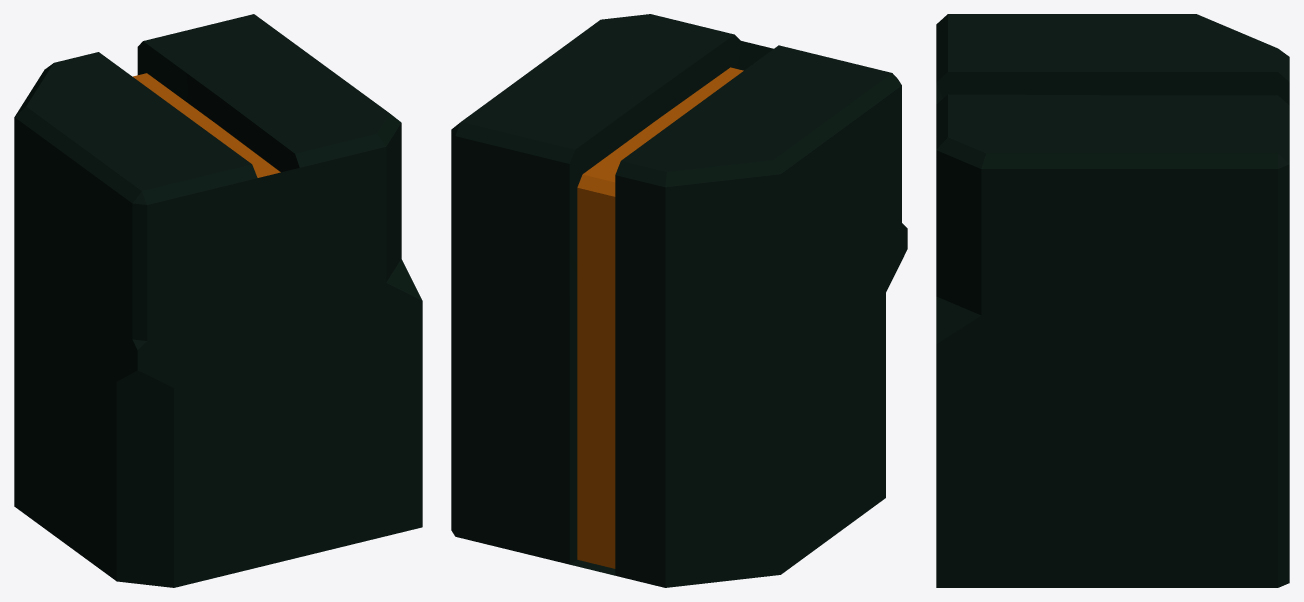
The model's file is Lava_platform.fbx.
3 renders of one model, left to right at view 1: azimuth 30°, elevation 25°; view 2: azimuth 150°, elevation 25°; view 3: azimuth 270°, elevation 25°, orthographic. The views are drawn at different scales.
Visible parts, largest first — view 1: MESH_lava_platform; view 2: MESH_lava_platform; view 3: MESH_lava_platform.
Part boxes in pixels (x1,y1,x2,y2): MESH_lava_platform: (14,14,422,587); MESH_lava_platform: (451,14,907,587); MESH_lava_platform: (936,14,1289,587).
Size of the model in its own units: 5.42 by 7.27 by 5.42.
